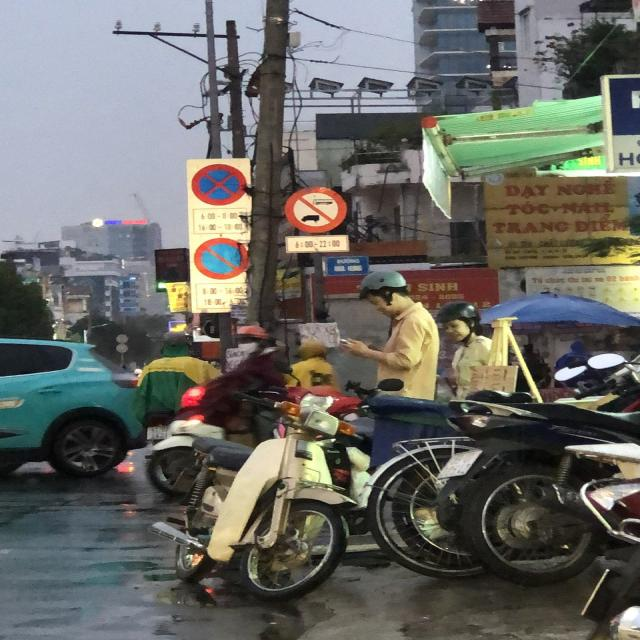Bien bao cam dung xe va do xe: (187, 161, 251, 211)
Bien bao cam xe oto khach va xe oto tai: (283, 185, 353, 234)
